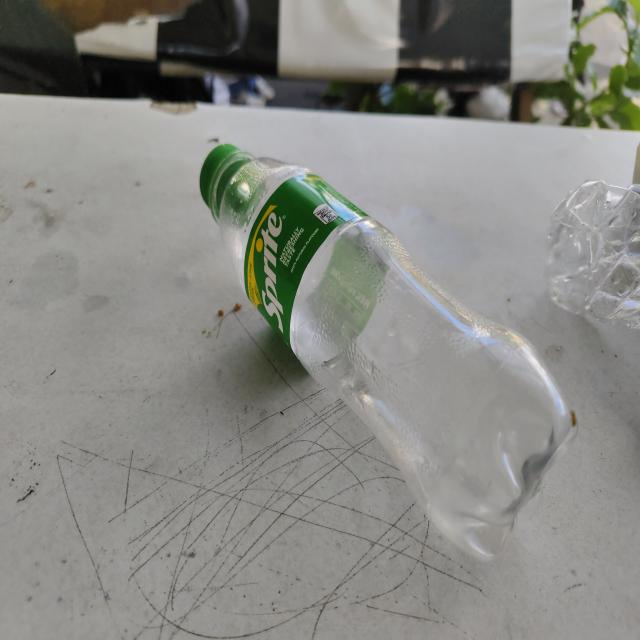Bottle: (200, 144, 577, 561)
